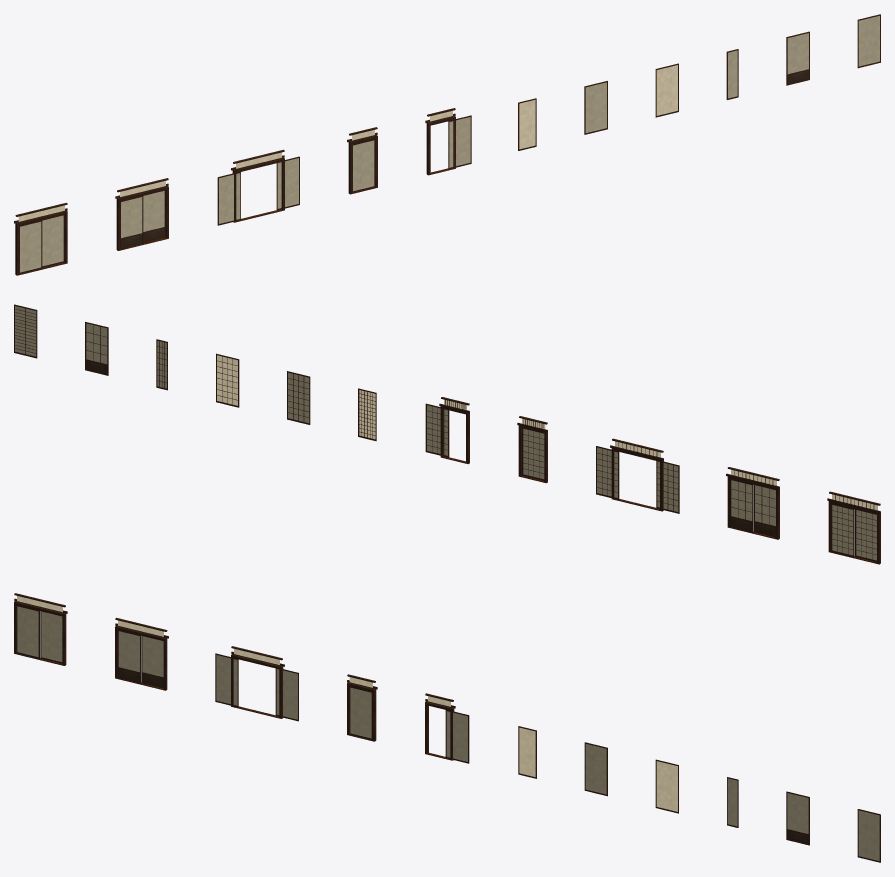
File: shoji_door_modules.glb
The picture shows the model from 3 angles, top to bottom: view 1: azimuth 30°, elevation 25°; view 2: azimuth 150°, elevation 25°; view 3: azimuth 330°, elevation 25°; orthographic projection.
Visible parts, largest first — view 1: IC02_ShojiLeaf_Grid_1200__Leaf, IC02_ShojiLeaf_Grid_1200_Lit__Leaf, IC02_ShojiLeaf_Koshi_1200__Leaf, IC02_ShojiLeaf_Yoko_1200__Leaf, IC02_ShojiDoor_Double_Closed__Frame, IC02_ShojiDoor_Double_Koshi__Frame, IC02_ShojiDoor_Double_Closed__Leaf1__Leaf, IC02_ShojiDoor_Single_Closed__Leaf1__Leaf, IC02_ShojiDoor_Double_Koshi__Leaf1__Leaf, IC02_ShojiDoor_Double_Open__Frame, IC02_ShojiDoor_Double_Closed__Leaf2__Leaf, IC02_ShojiDoor_Double_Koshi__Leaf2__Leaf (+7 smaller); view 2: IC02_ShojiLeaf_Grid_1200_Lit__Leaf, IC02_ShojiLeaf_Yoko_1200__Leaf, IC02_ShojiLeaf_Koshi_1200__Leaf, IC02_ShojiLeaf_Grid_1200__Leaf, IC02_ShojiDoor_Double_Koshi__Leaf2__Leaf, IC02_ShojiDoor_Double_Closed__Leaf2__Leaf, IC02_ShojiDoor_Double_Open__Frame, IC02_ShojiDoor_Double_Closed__Frame, IC02_ShojiDoor_Single_Closed__Leaf1__Leaf, IC02_ShojiDoor_Double_Open__Leaf2__Leaf, IC02_ShojiDoor_Single_Open__Leaf1__Leaf, IC02_ShojiDoor_Double_Koshi__Frame (+7 smaller); view 3: IC02_ShojiLeaf_Grid_1200_Lit__Leaf, IC02_ShojiLeaf_Koshi_1200__Leaf, IC02_ShojiLeaf_Grid_1200__Leaf, IC02_ShojiLeaf_Yoko_1200__Leaf, IC02_ShojiDoor_Double_Koshi__Leaf1__Leaf, IC02_ShojiDoor_Double_Closed__Leaf1__Leaf, IC02_ShojiDoor_Single_Closed__Leaf1__Leaf, IC02_ShojiDoor_Double_Koshi__Frame, IC02_ShojiDoor_Single_Open__Leaf1__Leaf, IC02_ShojiDoor_Double_Closed__Frame, IC02_ShojiDoor_Double_Open__Frame, IC02_ShojiDoor_Double_Closed__Leaf2__Leaf (+7 smaller).
Boxes of the visible parts, x1,y1,x2,y2 form: IC02_ShojiLeaf_Grid_1200__Leaf: [584, 81, 607, 134]; IC02_ShojiLeaf_Grid_1200_Lit__Leaf: [655, 63, 678, 117]; IC02_ShojiLeaf_Koshi_1200__Leaf: [786, 31, 809, 85]; IC02_ShojiLeaf_Yoko_1200__Leaf: [857, 14, 880, 68]; IC02_ShojiDoor_Double_Closed__Frame: [14, 202, 67, 275]; IC02_ShojiDoor_Double_Koshi__Frame: [115, 178, 168, 250]; IC02_ShojiDoor_Double_Closed__Leaf1__Leaf: [19, 220, 42, 273]; IC02_ShojiDoor_Single_Closed__Leaf1__Leaf: [352, 139, 375, 192]; IC02_ShojiDoor_Double_Koshi__Leaf1__Leaf: [120, 196, 143, 249]; IC02_ShojiDoor_Double_Open__Frame: [231, 149, 284, 222]; IC02_ShojiDoor_Double_Closed__Leaf2__Leaf: [42, 215, 64, 267]; IC02_ShojiDoor_Double_Koshi__Leaf2__Leaf: [143, 190, 165, 242]; IC02_ShojiLeaf_Grid_1200_Lit__Leaf: [216, 353, 239, 407]; IC02_ShojiLeaf_Yoko_1200__Leaf: [14, 304, 37, 358]; IC02_ShojiLeaf_Koshi_1200__Leaf: [85, 322, 108, 375]; IC02_ShojiLeaf_Grid_1200__Leaf: [287, 371, 310, 424]; IC02_ShojiDoor_Double_Koshi__Leaf2__Leaf: [730, 479, 753, 532]; IC02_ShojiDoor_Double_Closed__Leaf2__Leaf: [831, 503, 854, 557]; IC02_ShojiDoor_Double_Open__Frame: [610, 438, 663, 511]; IC02_ShojiDoor_Double_Closed__Frame: [827, 491, 880, 564]; IC02_ShojiDoor_Single_Closed__Leaf1__Leaf: [522, 428, 544, 480]; IC02_ShojiDoor_Double_Open__Leaf2__Leaf: [596, 446, 619, 499]; IC02_ShojiDoor_Single_Open__Leaf1__Leaf: [425, 403, 449, 457]; IC02_ShojiDoor_Double_Koshi__Frame: [726, 467, 779, 539]; IC02_ShojiLeaf_Grid_1200_Lit__Leaf: [655, 759, 678, 813]; IC02_ShojiLeaf_Koshi_1200__Leaf: [786, 791, 809, 845]; IC02_ShojiLeaf_Grid_1200__Leaf: [584, 742, 607, 796]; IC02_ShojiLeaf_Yoko_1200__Leaf: [857, 809, 880, 862]; IC02_ShojiDoor_Double_Koshi__Leaf1__Leaf: [117, 630, 140, 683]; IC02_ShojiDoor_Double_Closed__Leaf1__Leaf: [16, 605, 39, 658]; IC02_ShojiDoor_Single_Closed__Leaf1__Leaf: [349, 686, 372, 739]; IC02_ShojiDoor_Double_Koshi__Frame: [115, 617, 168, 690]; IC02_ShojiDoor_Single_Open__Leaf1__Leaf: [445, 710, 469, 763]; IC02_ShojiDoor_Double_Closed__Frame: [14, 593, 67, 665]; IC02_ShojiDoor_Double_Open__Frame: [231, 646, 284, 718]; IC02_ShojiDoor_Double_Closed__Leaf2__Leaf: [40, 611, 62, 663].
Bounding box in the file's own units: 45.06 × 2.97 × 0.17.
Materials: 5 (5 with a texture image).
